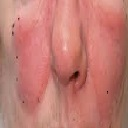Cellulitis: (6, 20, 53, 96)
